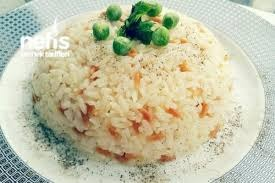pirinc_pilavi: (4, 0, 232, 164)
